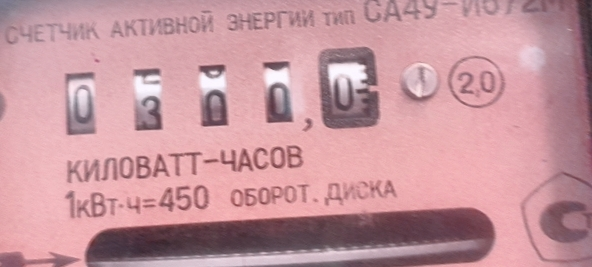0: (264, 76, 292, 122), (328, 68, 356, 113), (69, 78, 95, 126), (201, 84, 227, 127)
3: (137, 90, 162, 130)
screen: (40, 25, 401, 165)
